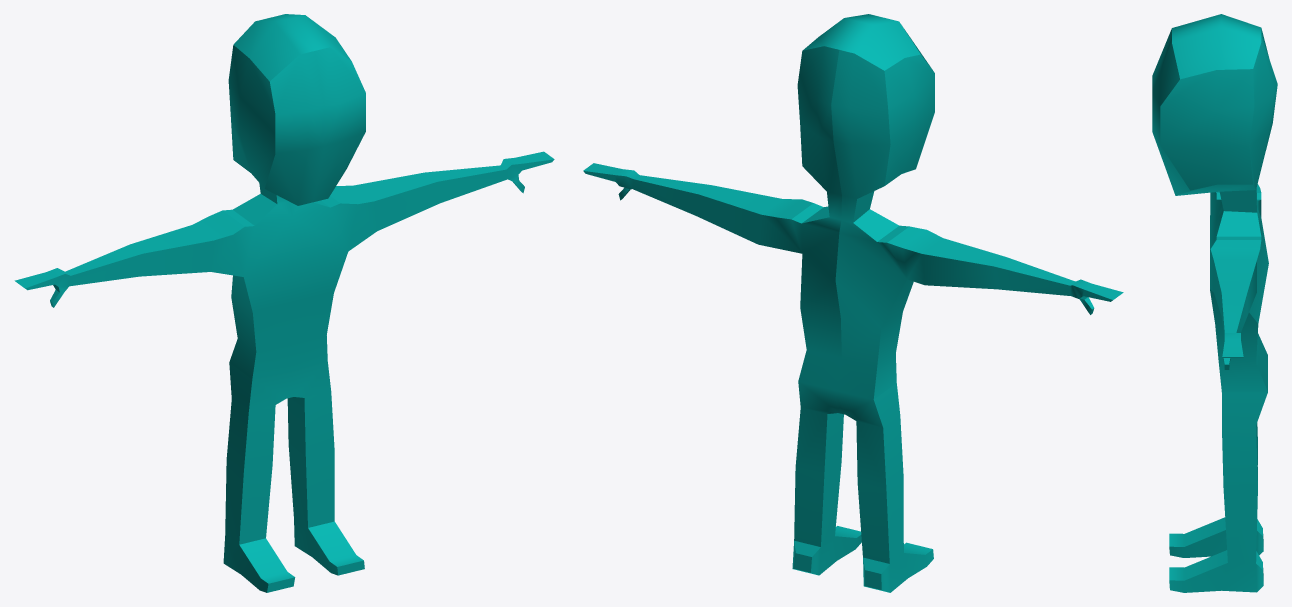
File: Zombie1.fbx
3 views of the same model, side by side, from view 1: azimuth 30°, elevation 25°; view 2: azimuth 150°, elevation 25°; view 3: azimuth 270°, elevation 25° (orthographic).
Visible parts, largest first — view 1: pCube3; view 2: pCube3; view 3: pCube3.
Part boxes in pixels (<box>): pCube3: <box>14,14,554,592</box>; pCube3: <box>583,14,1123,592</box>; pCube3: <box>1152,14,1277,592</box>.
Bounding box in the file's own units: 7.76 × 7.65 × 1.59.
